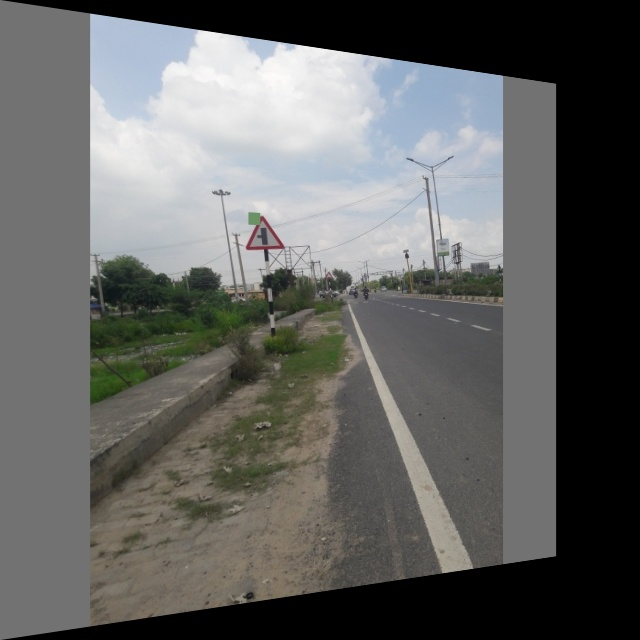Side_Road_Left: (238, 208, 286, 256)
